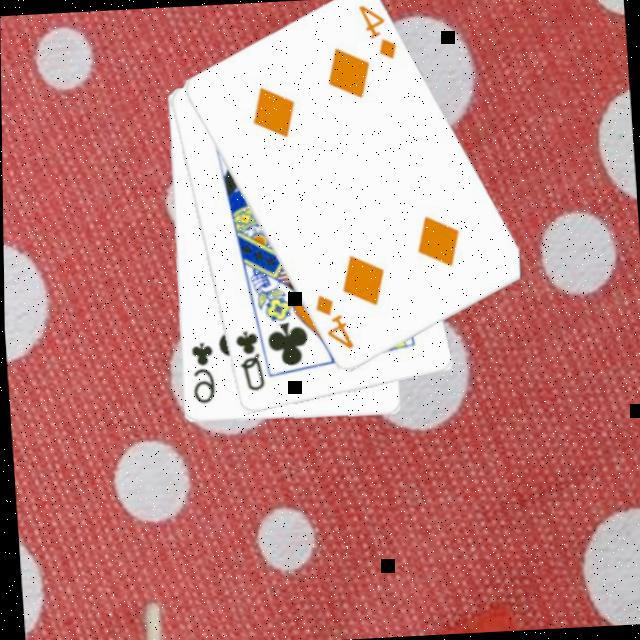4D: (309, 292, 356, 357), (353, 2, 399, 66)
9C: (184, 340, 216, 409)
QC: (228, 328, 266, 398)
